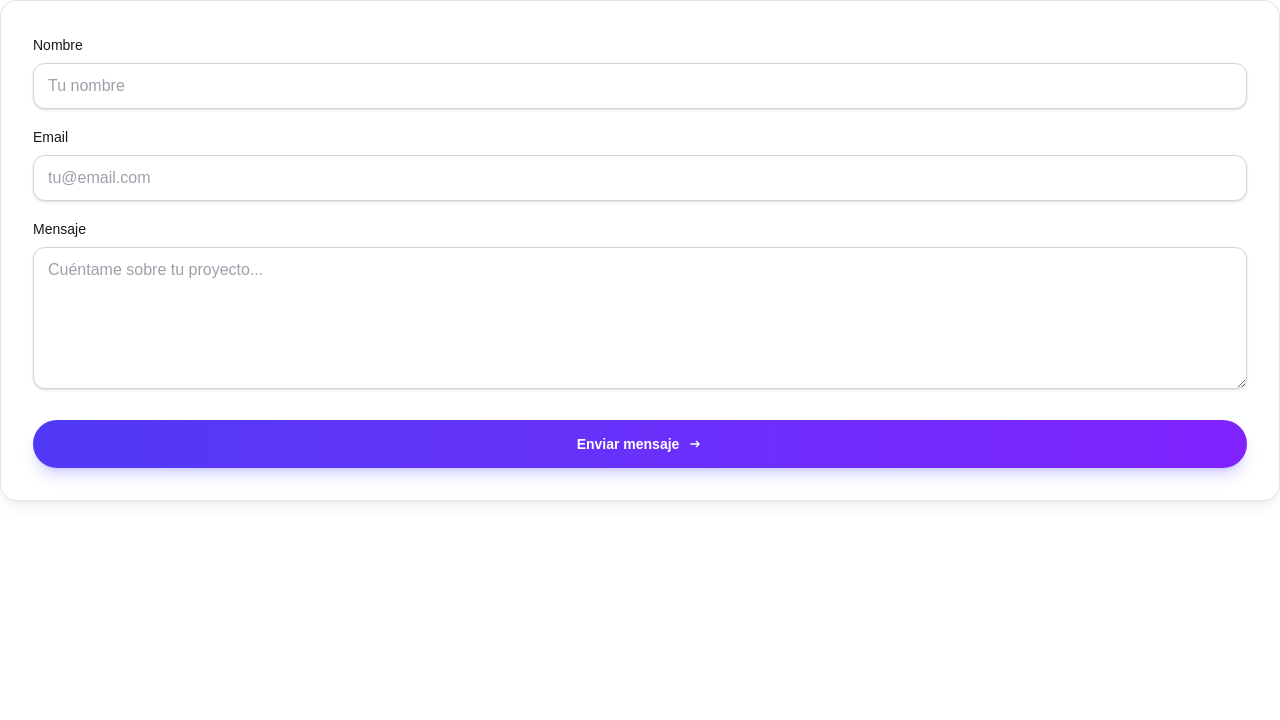
it: ContactForm › envía el mensaje y muestra el estado de éxito
Type "Ana" into the field labelled "Nombre". click: coordinates (640, 86)
box: [33, 63, 1247, 109]
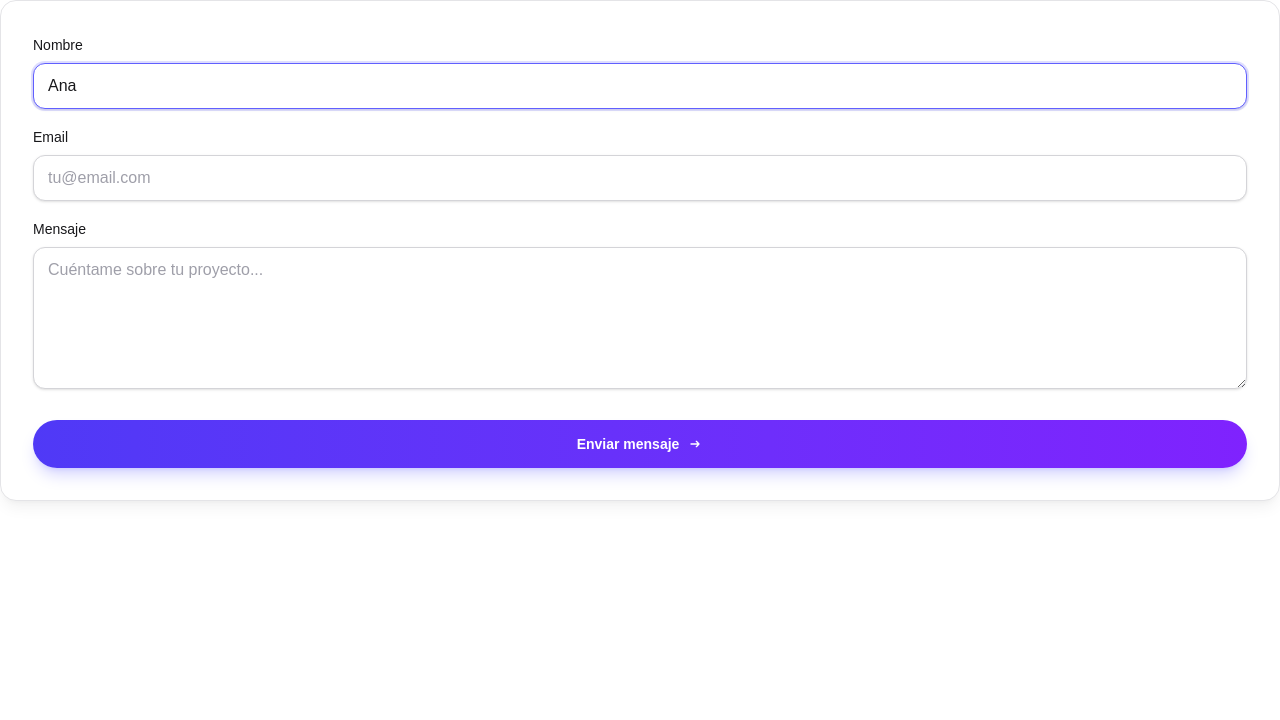
Type "ana@ejemplo.com" into the field labelled "Email". click: coordinates (640, 178)
box: [33, 155, 1247, 201]
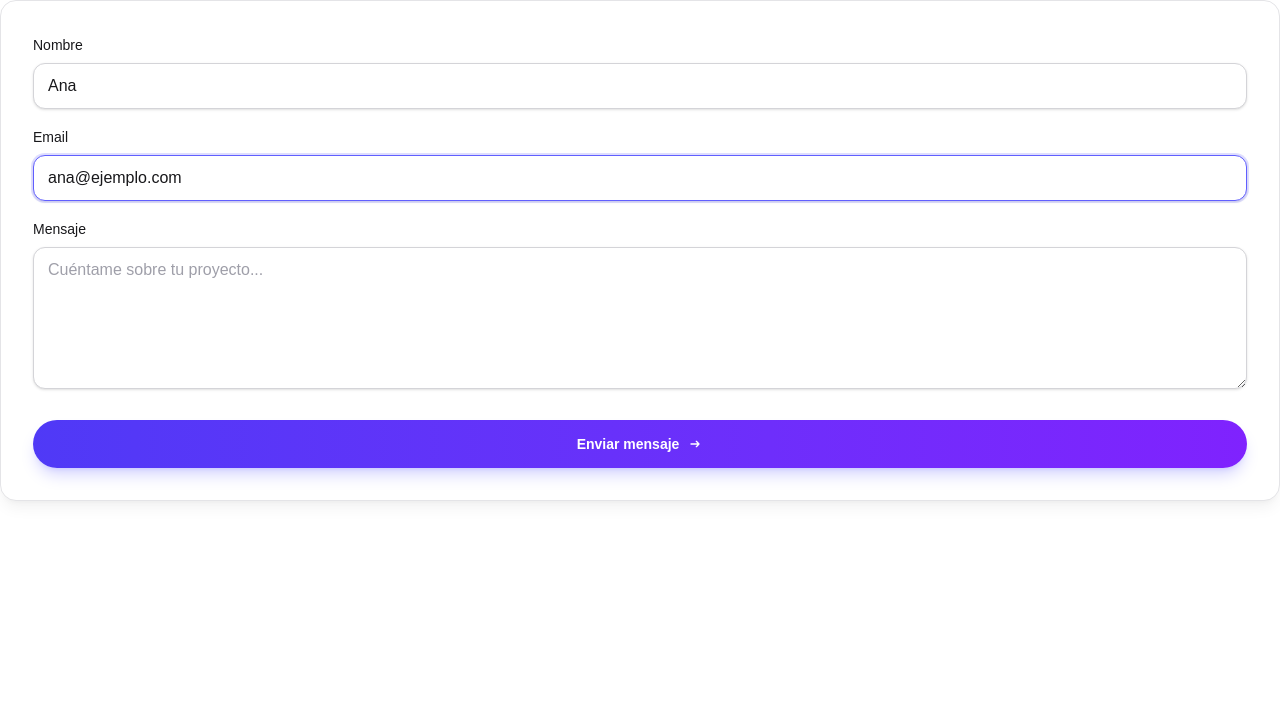
Type "Hola" into the text box labelled "Mensaje". click: coordinates (640, 318)
box: [33, 247, 1247, 389]
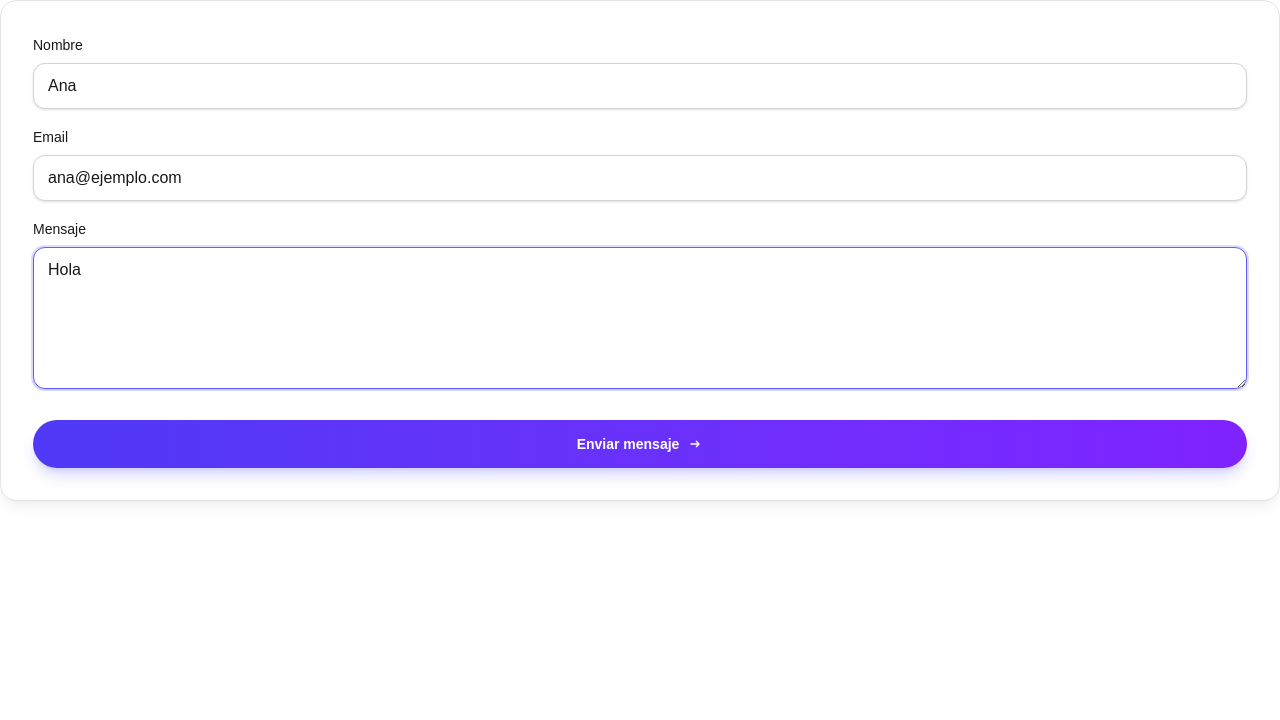
Click the button "Enviar mensaje". click: coordinates (640, 444)
box: [33, 420, 1247, 468]
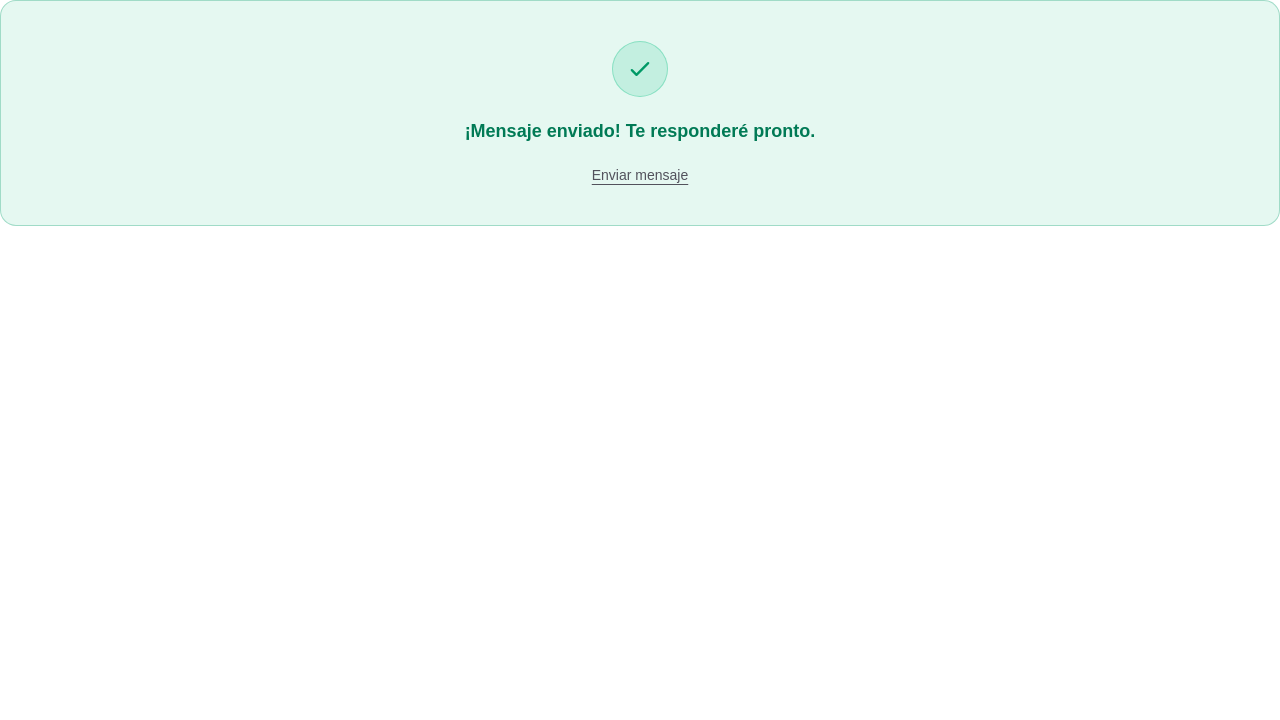
Result: the message shows "¡Mensaje enviado! Te responderé pronto." at [465, 121, 815, 141]
